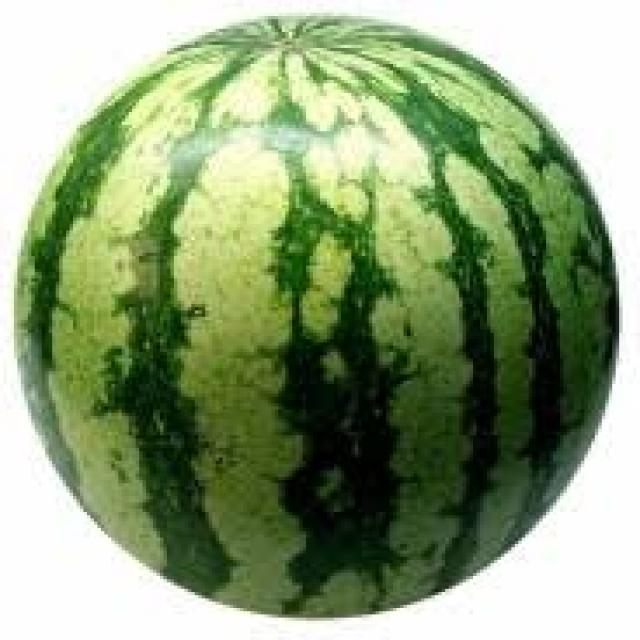organic waste: (11, 9, 616, 614)
